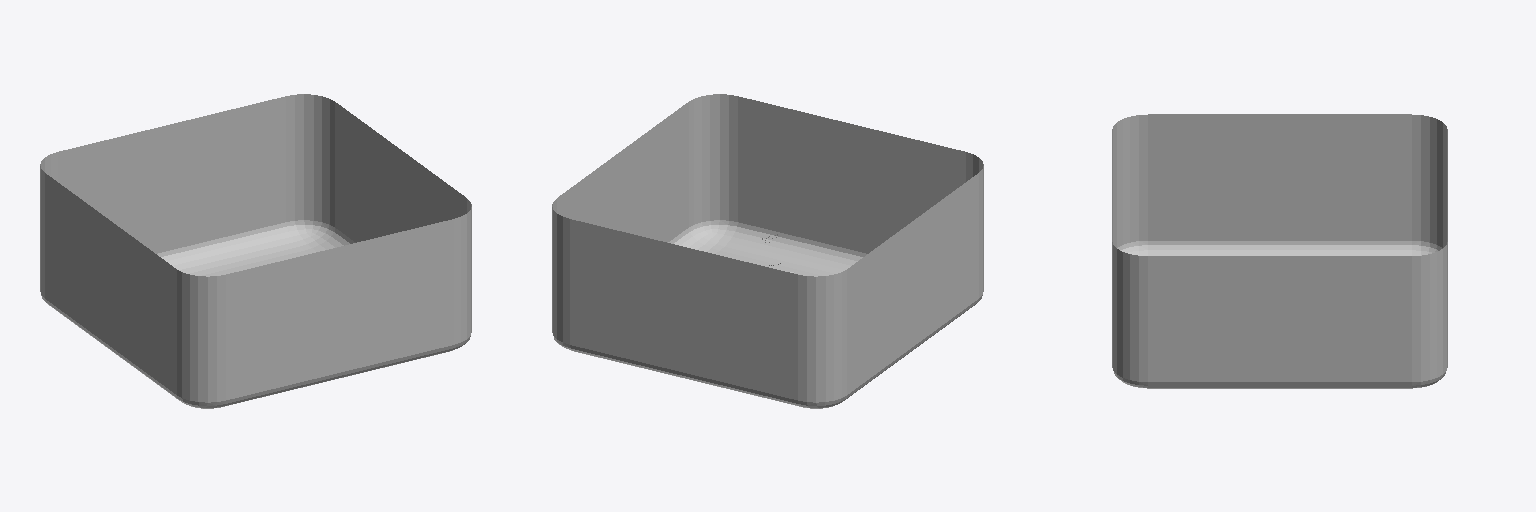
Rendered from AeroNacre3DModel.obj.
The picture shows the model from 3 angles: view 1: azimuth 30°, elevation 25°; view 2: azimuth 150°, elevation 25°; view 3: azimuth 270°, elevation 25°; orthographic projection.
Parts seen in each view (by area): view 1: Cube_D.006; view 2: Cube_D.006; view 3: Cube_D.006.
Boxes of the visible parts, x1=… form: Cube_D.006: x1=40, y1=94, x2=471, y2=408; Cube_D.006: x1=552, y1=94, x2=983, y2=408; Cube_D.006: x1=1112, y1=114, x2=1447, y2=388.
Size of the model in its own units: 34.05 by 15.82 by 34.05.